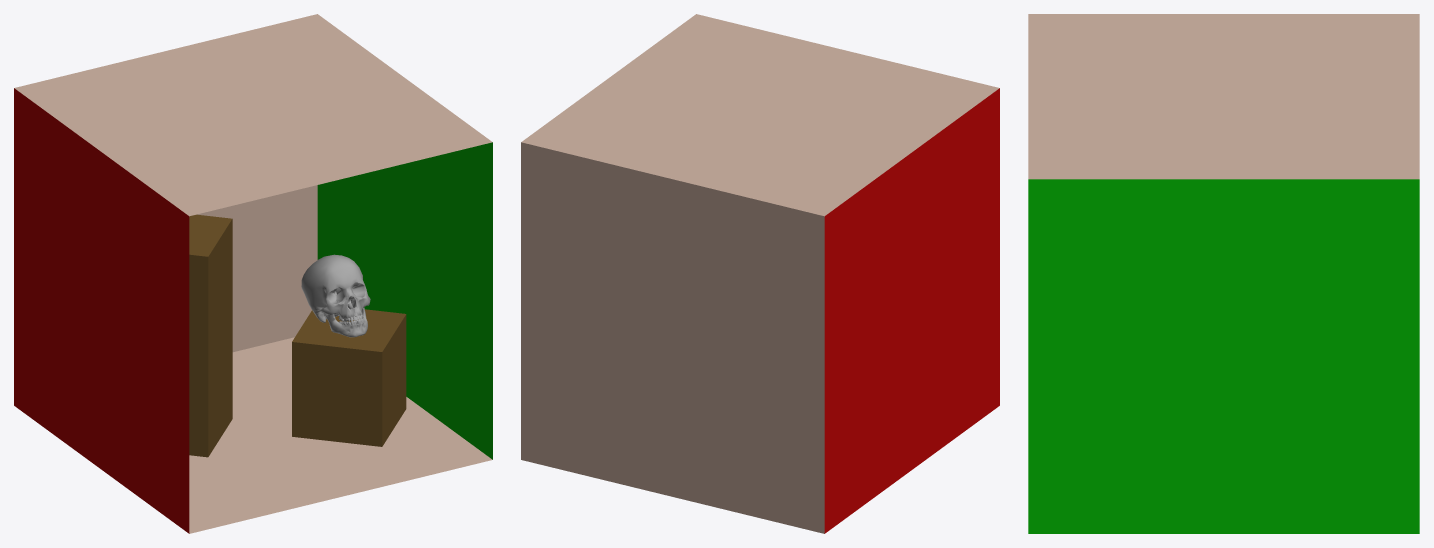
Rendered from cornell.obj.
The picture shows the model from 3 angles, left to right: view 1: azimuth 30°, elevation 25°; view 2: azimuth 150°, elevation 25°; view 3: azimuth 270°, elevation 25°; orthographic projection. The views are drawn at different scales.
Visible parts, largest first — view 1: Cube.001_Cube.002, Cube.001_Cube.001, Cube.001_Cube.000, Cube.001_Cube.005, Cube.001_Cube.006, Cube.001_Cube.004, Cube.001_Cube.003, lteeth.001; view 2: Cube.001_Cube.004, Cube.001_Cube.002, Cube.001_Cube.001; view 3: Cube.001_Cube.000, Cube.001_Cube.001.
Boxes of the visible parts, box(x1,y1,x2,y2) form: Cube.001_Cube.002: box(14, 88, 189, 533); Cube.001_Cube.001: box(14, 14, 492, 216); Cube.001_Cube.000: box(317, 142, 492, 459); Cube.001_Cube.005: box(189, 337, 492, 533); Cube.001_Cube.006: box(292, 309, 406, 446); Cube.001_Cube.004: box(197, 185, 317, 352); Cube.001_Cube.003: box(189, 214, 232, 457); lteeth.001: box(301, 254, 370, 337); Cube.001_Cube.004: box(521, 142, 824, 533); Cube.001_Cube.002: box(824, 88, 999, 533); Cube.001_Cube.001: box(521, 14, 999, 216); Cube.001_Cube.000: box(1028, 179, 1419, 533); Cube.001_Cube.001: box(1028, 14, 1419, 179).
Bounding box in the file's own units: 3 × 3 × 3.
